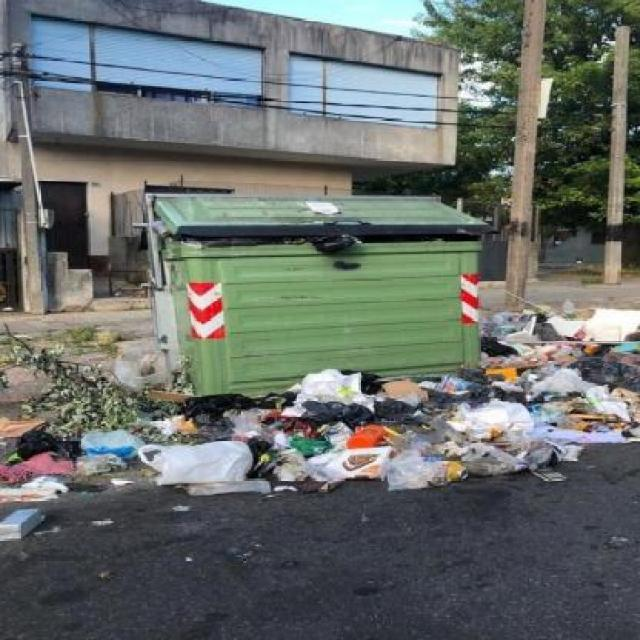garbage: (2, 376, 640, 499), (476, 294, 639, 391), (297, 220, 356, 254), (1, 491, 34, 550)
